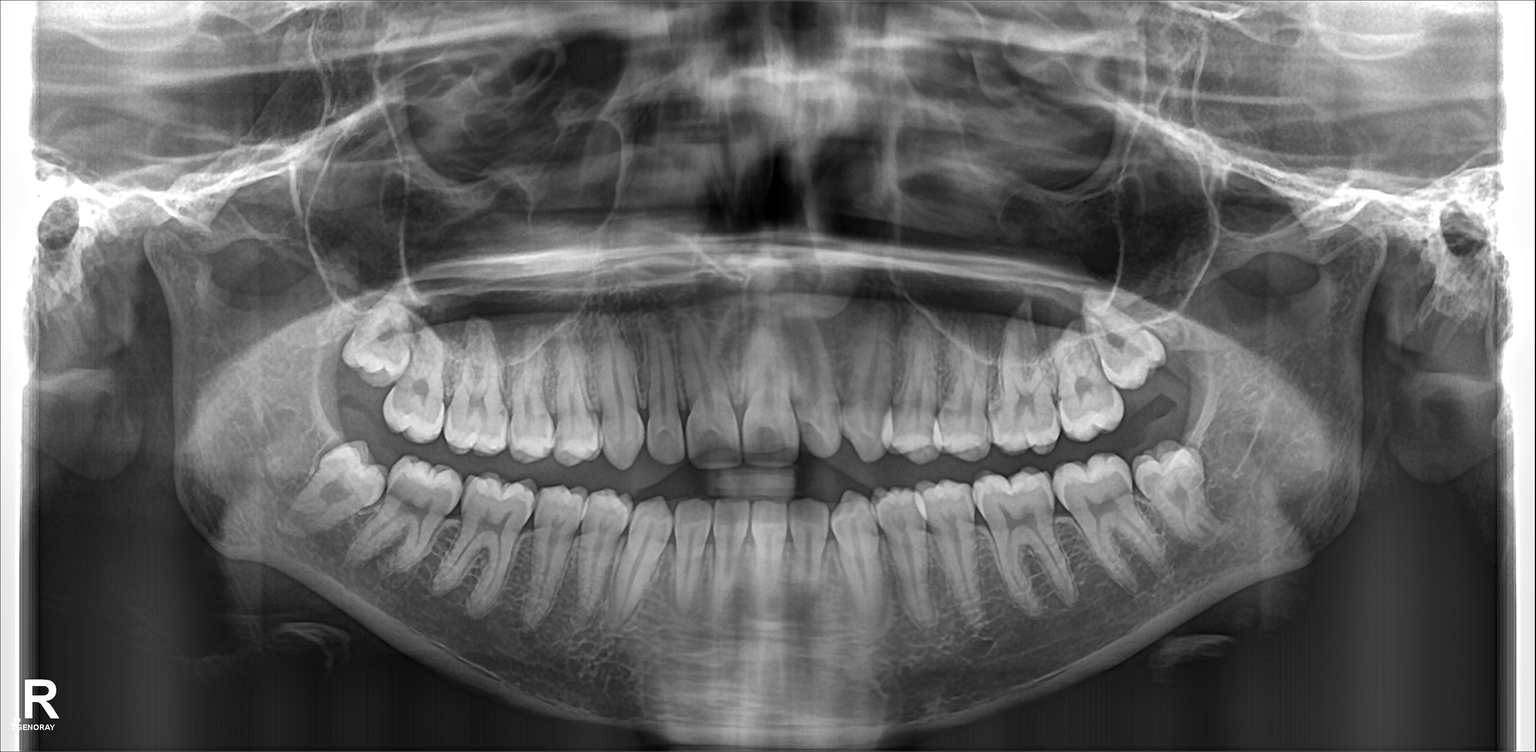Impacted Third Molar: (1140, 447, 1207, 535), (304, 460, 377, 520), (1102, 296, 1155, 374), (352, 307, 407, 374)
